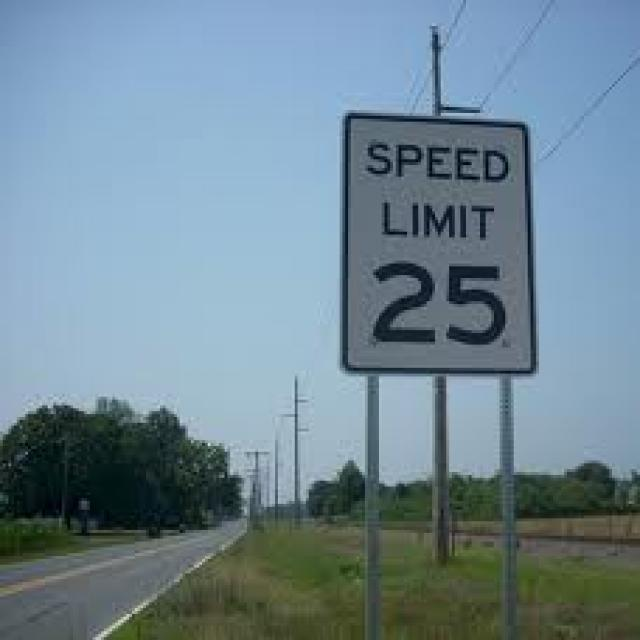regulatory: (338, 111, 540, 378)
